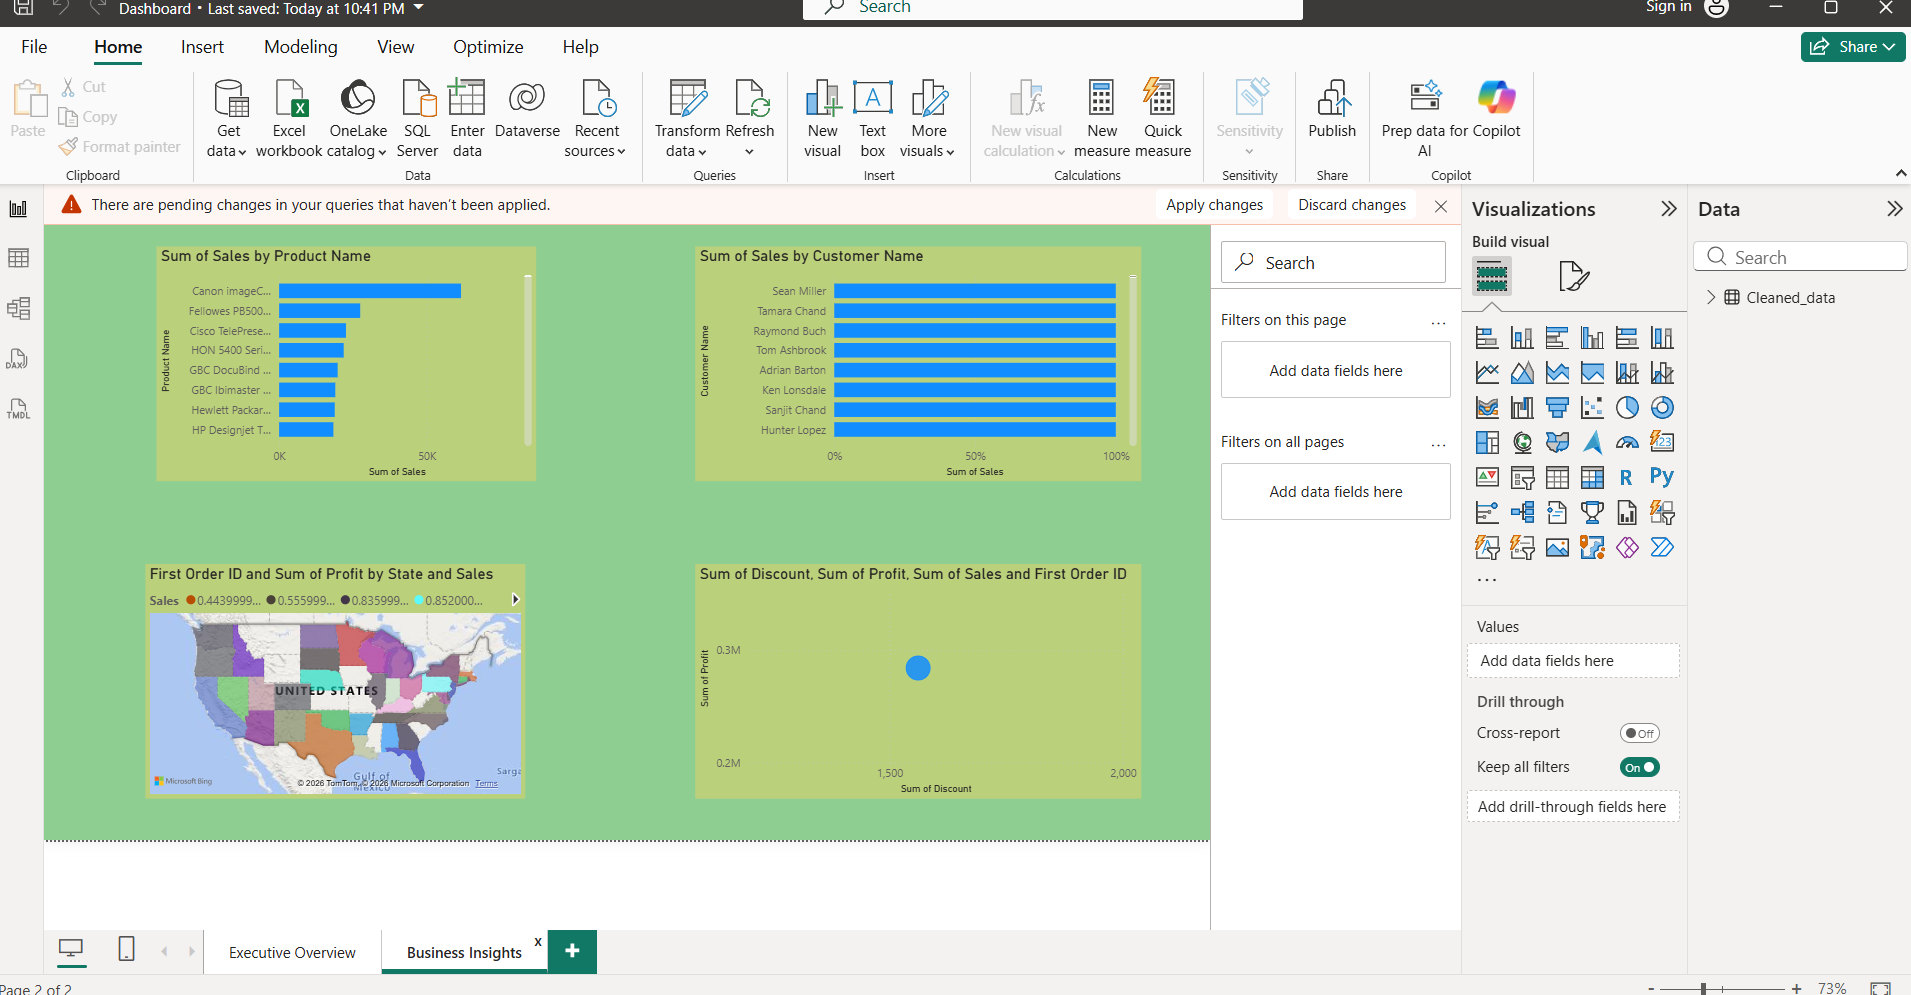

The page's visual inventory and layout, read from the dashboard file:
{"tool":"powerbi","page":{"name":"Business Insights","canvas":[1280,720],"ordinal":1},"visuals":[{"type":"clusteredBarChart","fields":{"Category":["Cleaned_data.Product Name"],"Y":["Sum(Cleaned_data.Sales)"]},"box":[123.5,68.6,417.2,258],"z":0},{"type":"hundredPercentStackedBarChart","fields":{"Category":["Cleaned_data.Customer Name"],"Y":["Sum(Cleaned_data.Sales)"]},"box":[714.9,68.6,489.9,258],"z":1000},{"type":"filledMap","fields":{"Category":["Cleaned_data.State"],"Series":["Cleaned_data.Sales"]},"box":[111.1,417.2,417.2,258],"z":2000},{"type":"scatterChart","fields":{"X":["Sum(Cleaned_data.Discount)"],"Y":["Sum(Cleaned_data.Profit)"],"Size":["Sum(Cleaned_data.Sales)"]},"box":[714.9,417.2,489.9,258],"z":3000}]}

Visuals, with their boxes on the page's 1280x720 design canvas (x1, y1, x2, y2). These are canvas units, not pixel positions in the 1911x995 screenshot, which may show the page scaled, cropped or inside an application window:
clusteredBarChart - Cleaned_data.Product Name x Sum(Cleaned_data.Sales): {"left": 124, "top": 69, "right": 541, "bottom": 327}
hundredPercentStackedBarChart - Cleaned_data.Customer Name x Sum(Cleaned_data.Sales): {"left": 715, "top": 69, "right": 1205, "bottom": 327}
filledMap - Cleaned_data.State x Cleaned_data.Sales: {"left": 111, "top": 417, "right": 528, "bottom": 675}
scatterChart - Sum(Cleaned_data.Discount) x Sum(Cleaned_data.Profit): {"left": 715, "top": 417, "right": 1205, "bottom": 675}
